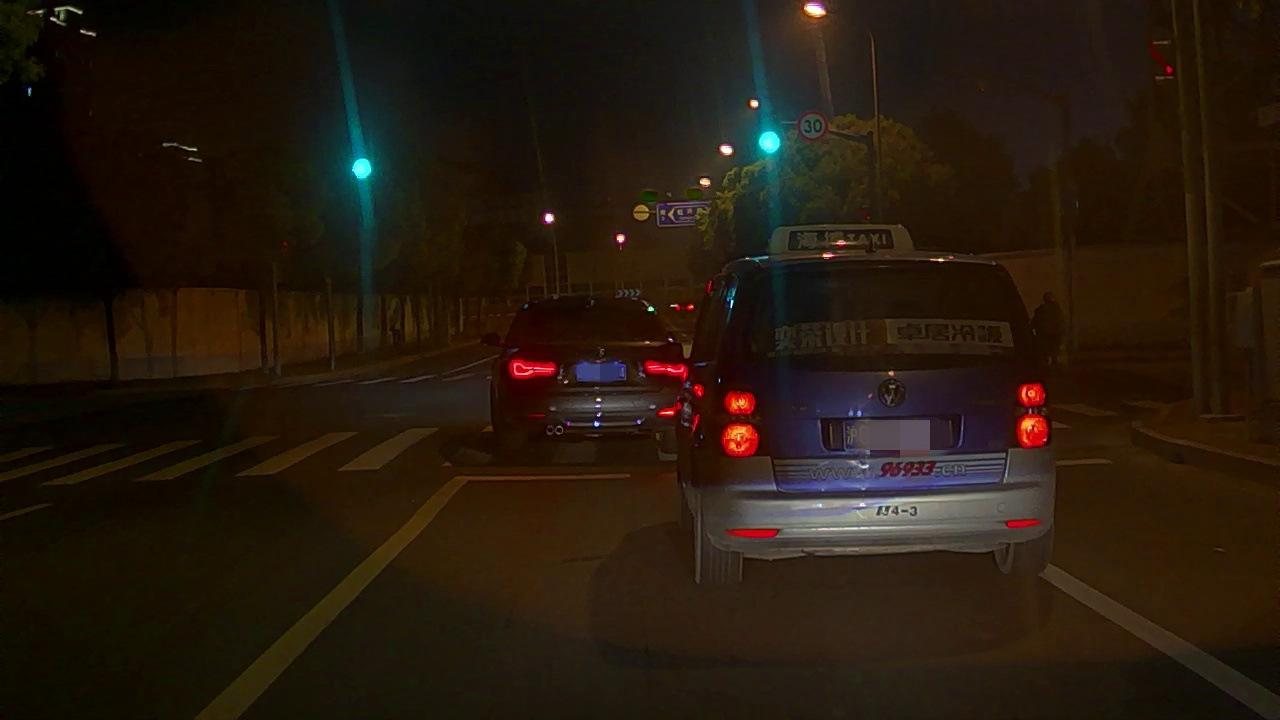traffic_light: (352, 156, 371, 177), (759, 135, 781, 152)
